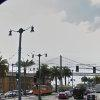Car: (55, 87, 71, 99)
